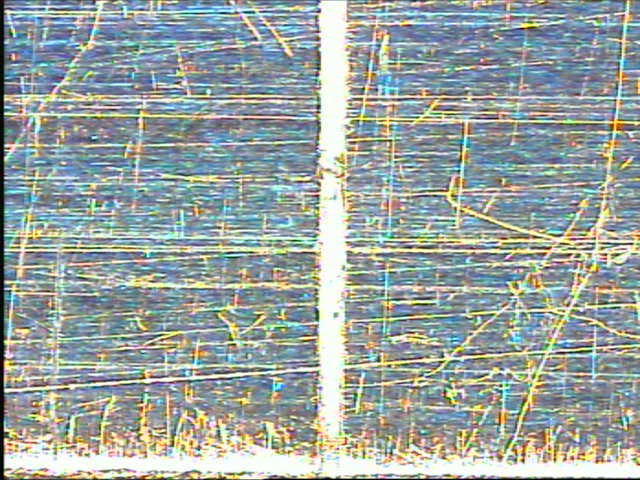line: (313, 1, 353, 477)
